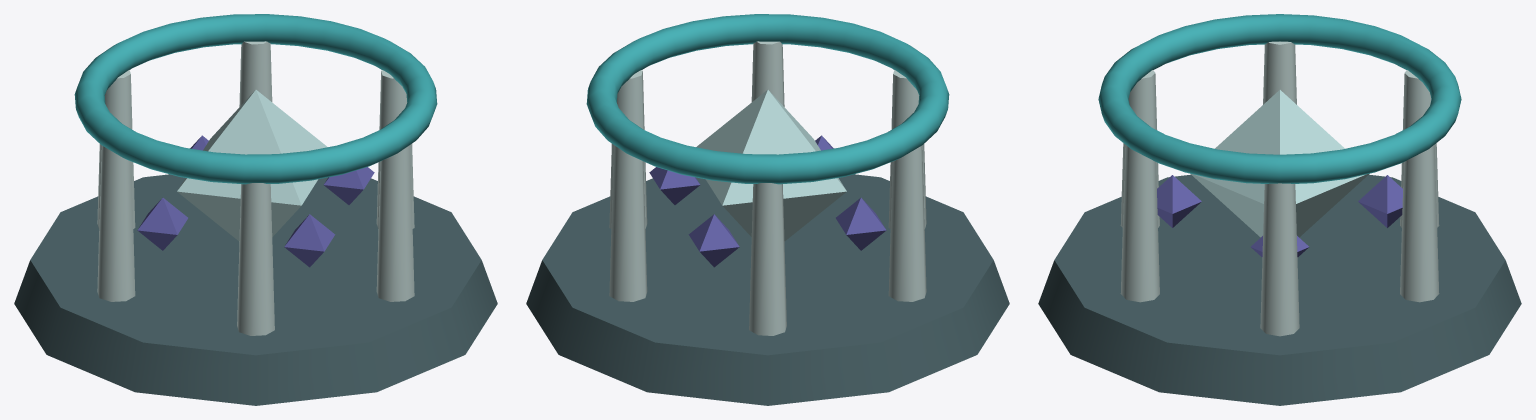
The model's file is prism_sanctuary.glb.
3 renders of one model, left to right at view 1: azimuth 30°, elevation 25°; view 2: azimuth 150°, elevation 25°; view 3: azimuth 270°, elevation 25°, orthographic.
Parts seen in each view (by area): view 1: base, upper_ring, core, pillar_2, pillar_3, pillar_1, pillar_5, pillar_0, pillar_4, satellite_2, satellite_1, satellite_0; view 2: base, upper_ring, core, pillar_4, pillar_3, pillar_5, pillar_1, pillar_0, pillar_2, satellite_2, satellite_3, satellite_0; view 3: base, upper_ring, core, pillar_0, pillar_1, pillar_5, pillar_3, pillar_2, pillar_4, satellite_1, satellite_3.
Boxes of the visible parts, box(x1,y1,x2,y2) form: base: box(14, 174, 497, 405); upper_ring: box(74, 14, 437, 184); core: box(177, 90, 327, 241); pillar_2: box(237, 183, 274, 335); pillar_3: box(97, 145, 135, 301); pillar_1: box(376, 145, 414, 301); pillar_5: box(239, 41, 272, 106); pillar_0: box(376, 70, 414, 228); pillar_4: box(97, 70, 135, 228); satellite_2: box(137, 197, 187, 250); satellite_1: box(284, 214, 335, 267); satellite_0: box(323, 167, 374, 204); base: box(526, 174, 1009, 405); upper_ring: box(586, 14, 949, 184); core: box(696, 90, 846, 241); pillar_4: box(749, 183, 786, 335); pillar_3: box(888, 145, 926, 301); pillar_5: box(609, 145, 647, 301); pillar_1: box(751, 41, 784, 106); pillar_0: box(609, 70, 647, 228); pillar_2: box(888, 70, 926, 228); satellite_2: box(836, 197, 886, 250); satellite_3: box(688, 214, 739, 267); satellite_0: box(649, 167, 700, 204); base: box(1038, 174, 1521, 405); upper_ring: box(1098, 14, 1461, 183); core: box(1190, 90, 1369, 237); pillar_0: box(1260, 183, 1299, 336); pillar_1: box(1120, 145, 1159, 302); pillar_5: box(1400, 145, 1439, 302); pillar_3: box(1263, 41, 1296, 104); pillar_2: box(1120, 70, 1159, 227); pillar_4: box(1400, 70, 1439, 227); satellite_1: box(1157, 175, 1201, 227); satellite_3: box(1358, 175, 1402, 227).
Bounding box in the file's own units: 9 × 4.47 × 9.
